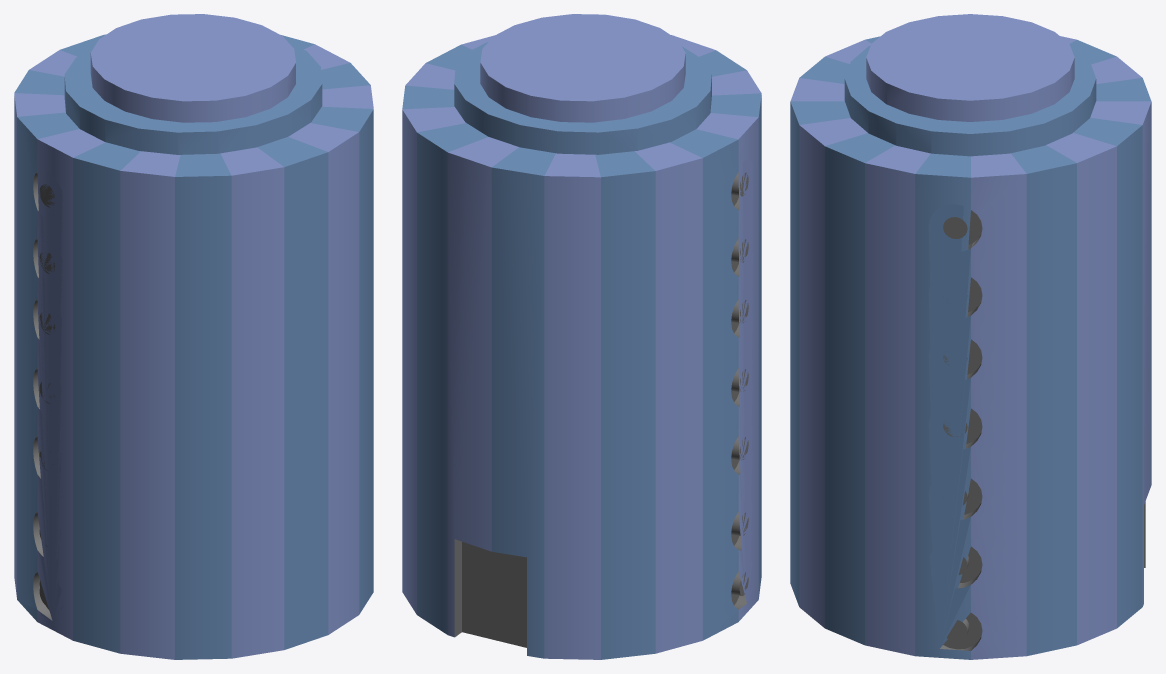
File: StaticBuilding2.fbx
The picture shows the model from 3 angles, left to right: view 1: azimuth 30°, elevation 25°; view 2: azimuth 150°, elevation 25°; view 3: azimuth 270°, elevation 25°; orthographic projection.
Parts seen in each view (by area): view 1: polySurface17; view 2: polySurface17; view 3: polySurface17.
Boxes of the visible parts, x1,y1,x2,y2 form: polySurface17: [14, 14, 373, 659]; polySurface17: [402, 14, 761, 659]; polySurface17: [790, 14, 1151, 659].
Bounding box in the file's own units: 10.72 × 17.23 × 10.72.
